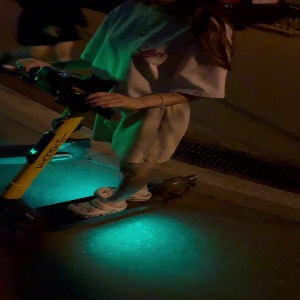human on a scooter: (1, 1, 236, 243)
